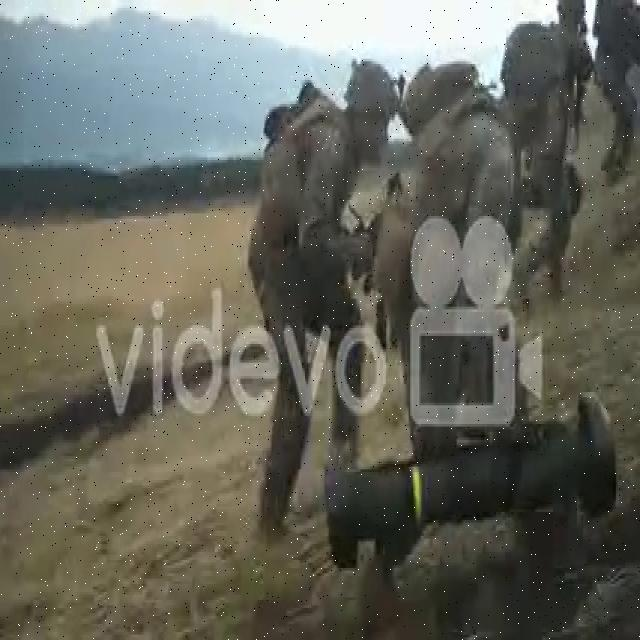bazooka: (317, 383, 621, 581)
